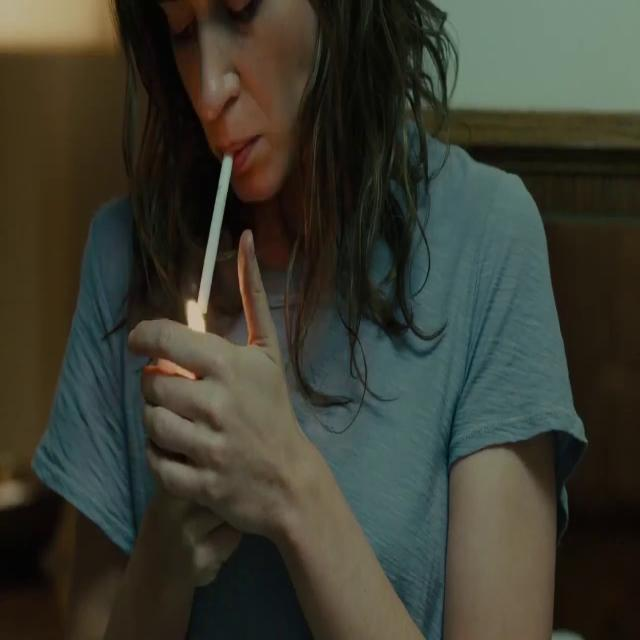Smooking: (188, 152, 240, 324)
